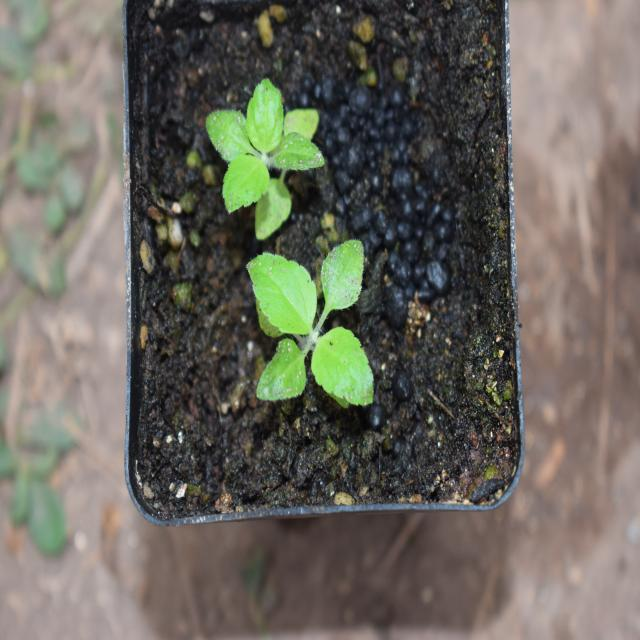billygoat_weed: (236, 233, 373, 430), (198, 65, 324, 231)
